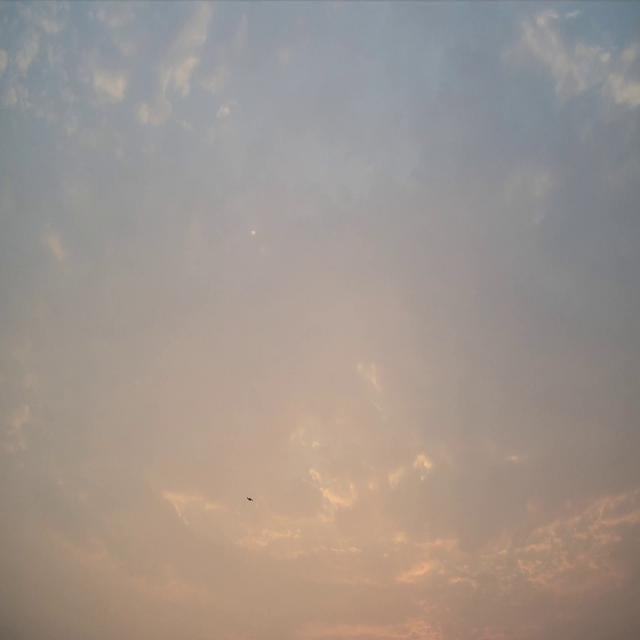drone: (246, 496, 252, 502)
